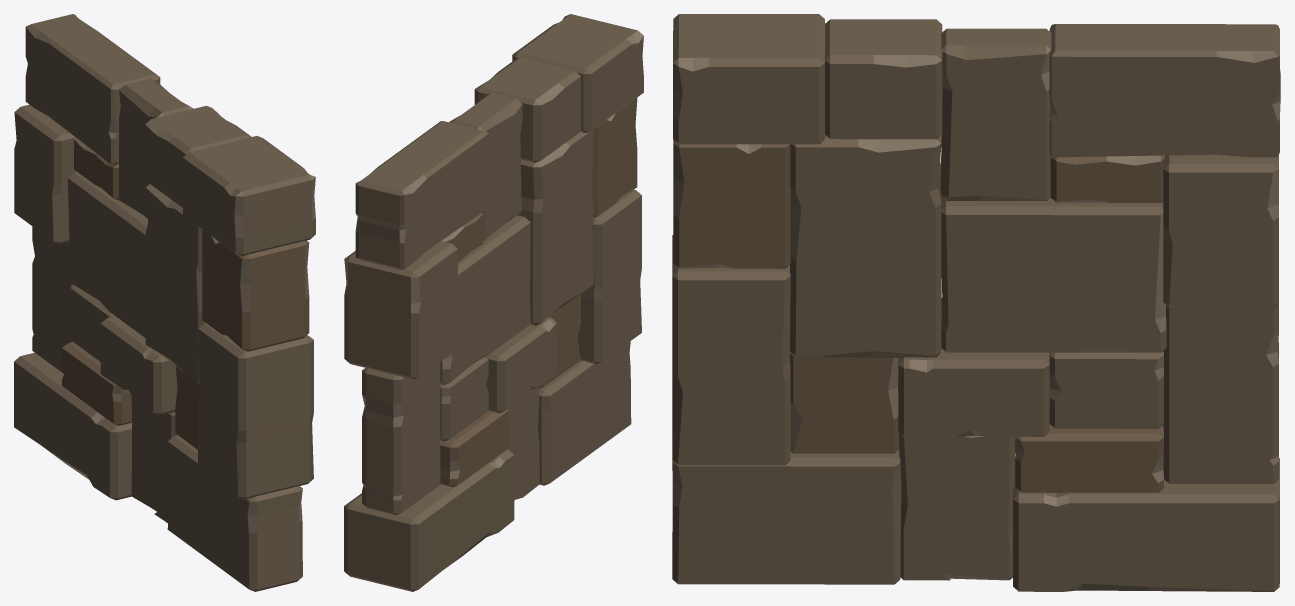
File: plaza_wall_west_0_lev3.glb
3 views of the same model, side by side, from view 1: azimuth 30°, elevation 25°; view 2: azimuth 150°, elevation 25°; view 3: azimuth 270°, elevation 25° (orthographic). The views are drawn at different scales.
Parts seen in each view (by area): view 1: plaza_wall_west_0_lev3; view 2: plaza_wall_west_0_lev3; view 3: plaza_wall_west_0_lev3.
Part boxes in pixels (x1,y1,x2,y2): plaza_wall_west_0_lev3: [14, 14, 315, 591]; plaza_wall_west_0_lev3: [344, 14, 643, 591]; plaza_wall_west_0_lev3: [672, 14, 1280, 591].
Bounding box in the file's own units: 1.23 × 5.93 × 6.1.
